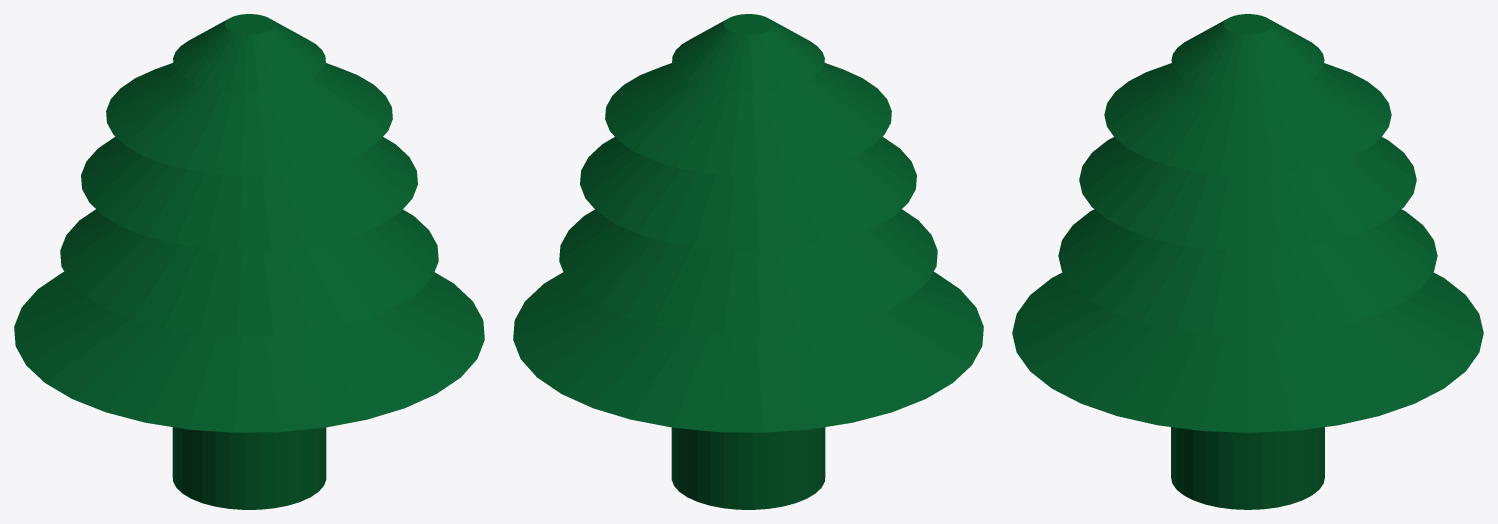
Rendered from SD_Tree2.fbx.
The picture shows the model from 3 angles, left to right: view 1: azimuth 30°, elevation 25°; view 2: azimuth 150°, elevation 25°; view 3: azimuth 270°, elevation 25°; orthographic projection.
Visible parts, largest first — view 1: Cylinder; view 2: Cylinder; view 3: Cylinder.
Boxes of the visible parts, x1,y1,x2,y2 form: Cylinder: (14,14,484,509); Cylinder: (513,14,983,509); Cylinder: (1012,14,1483,509).
Bounding box in the file's own units: 612 × 649 × 612.
